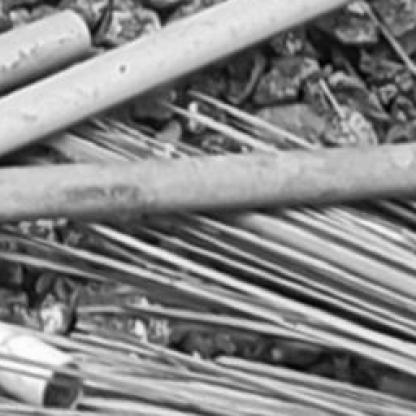PVC: (1, 3, 355, 156), (0, 142, 414, 221), (1, 320, 86, 411)
